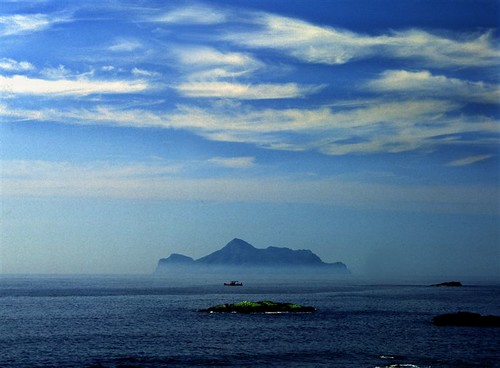turtleIslandLeft: (153, 236, 356, 276)
